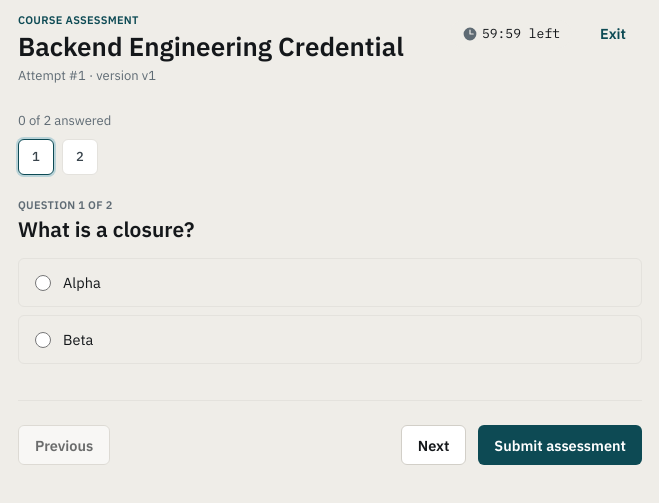
Test: AssessmentAttemptShell (runner) › autosave failure › keeps the selection, shows an error, and retries successfully
Click the radio button labelled "Alpha" at (43, 283), box [35, 275, 51, 291]
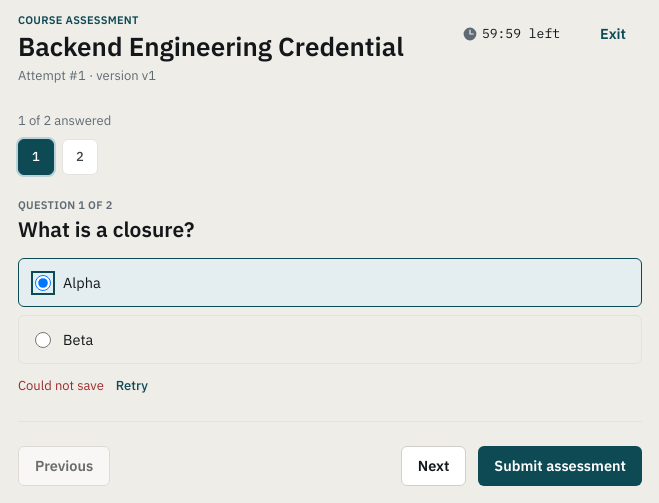
Expected: the radio button labelled "Alpha" is checked, [35, 275, 51, 291]
Expected: the text "Could not save" is shown, [18, 376, 104, 397]
Click the button "Retry" at (132, 387), box [116, 376, 148, 397]
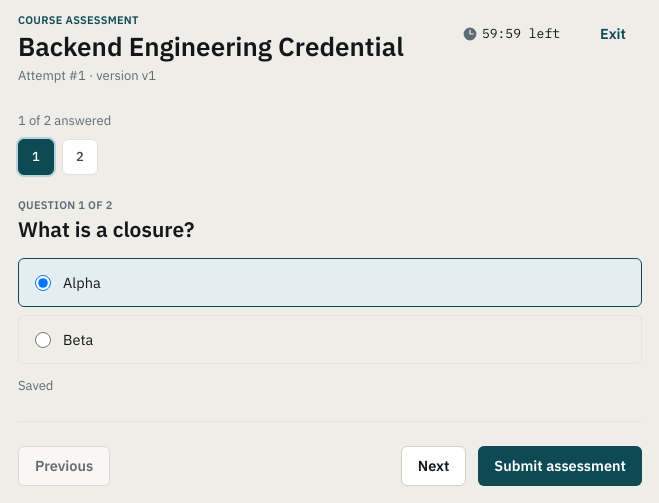
Expected: the text "Saved" is shown, [18, 376, 53, 397]
